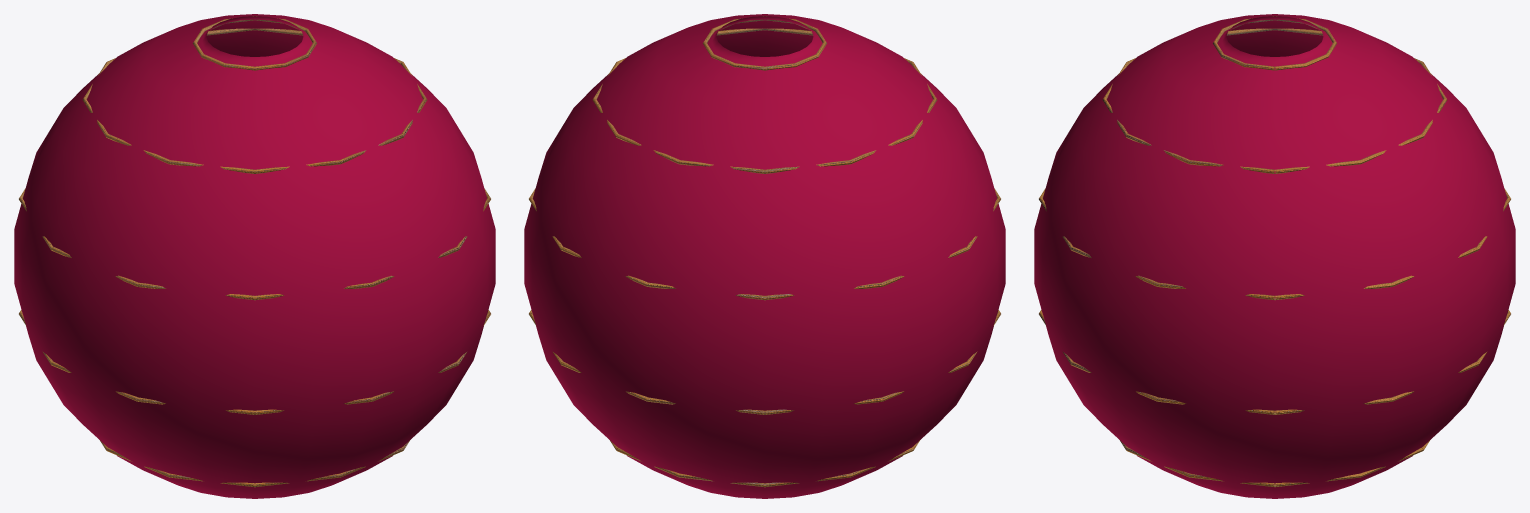
Rendered from prop_paper_lantern.glb.
3 renders of one model, left to right at view 1: azimuth 30°, elevation 25°; view 2: azimuth 150°, elevation 25°; view 3: azimuth 270°, elevation 25°, orthographic.
Visible parts, largest first — view 1: prop_paper_lantern; view 2: prop_paper_lantern; view 3: prop_paper_lantern.
Boxes of the visible parts, bbox=[...] form: prop_paper_lantern: bbox=[14, 14, 495, 498]; prop_paper_lantern: bbox=[524, 14, 1005, 498]; prop_paper_lantern: bbox=[1034, 14, 1515, 498].
Size of the model in its own units: 0.3474 by 0.35 by 0.3474.
Materials: 2 (1 with a texture image).
